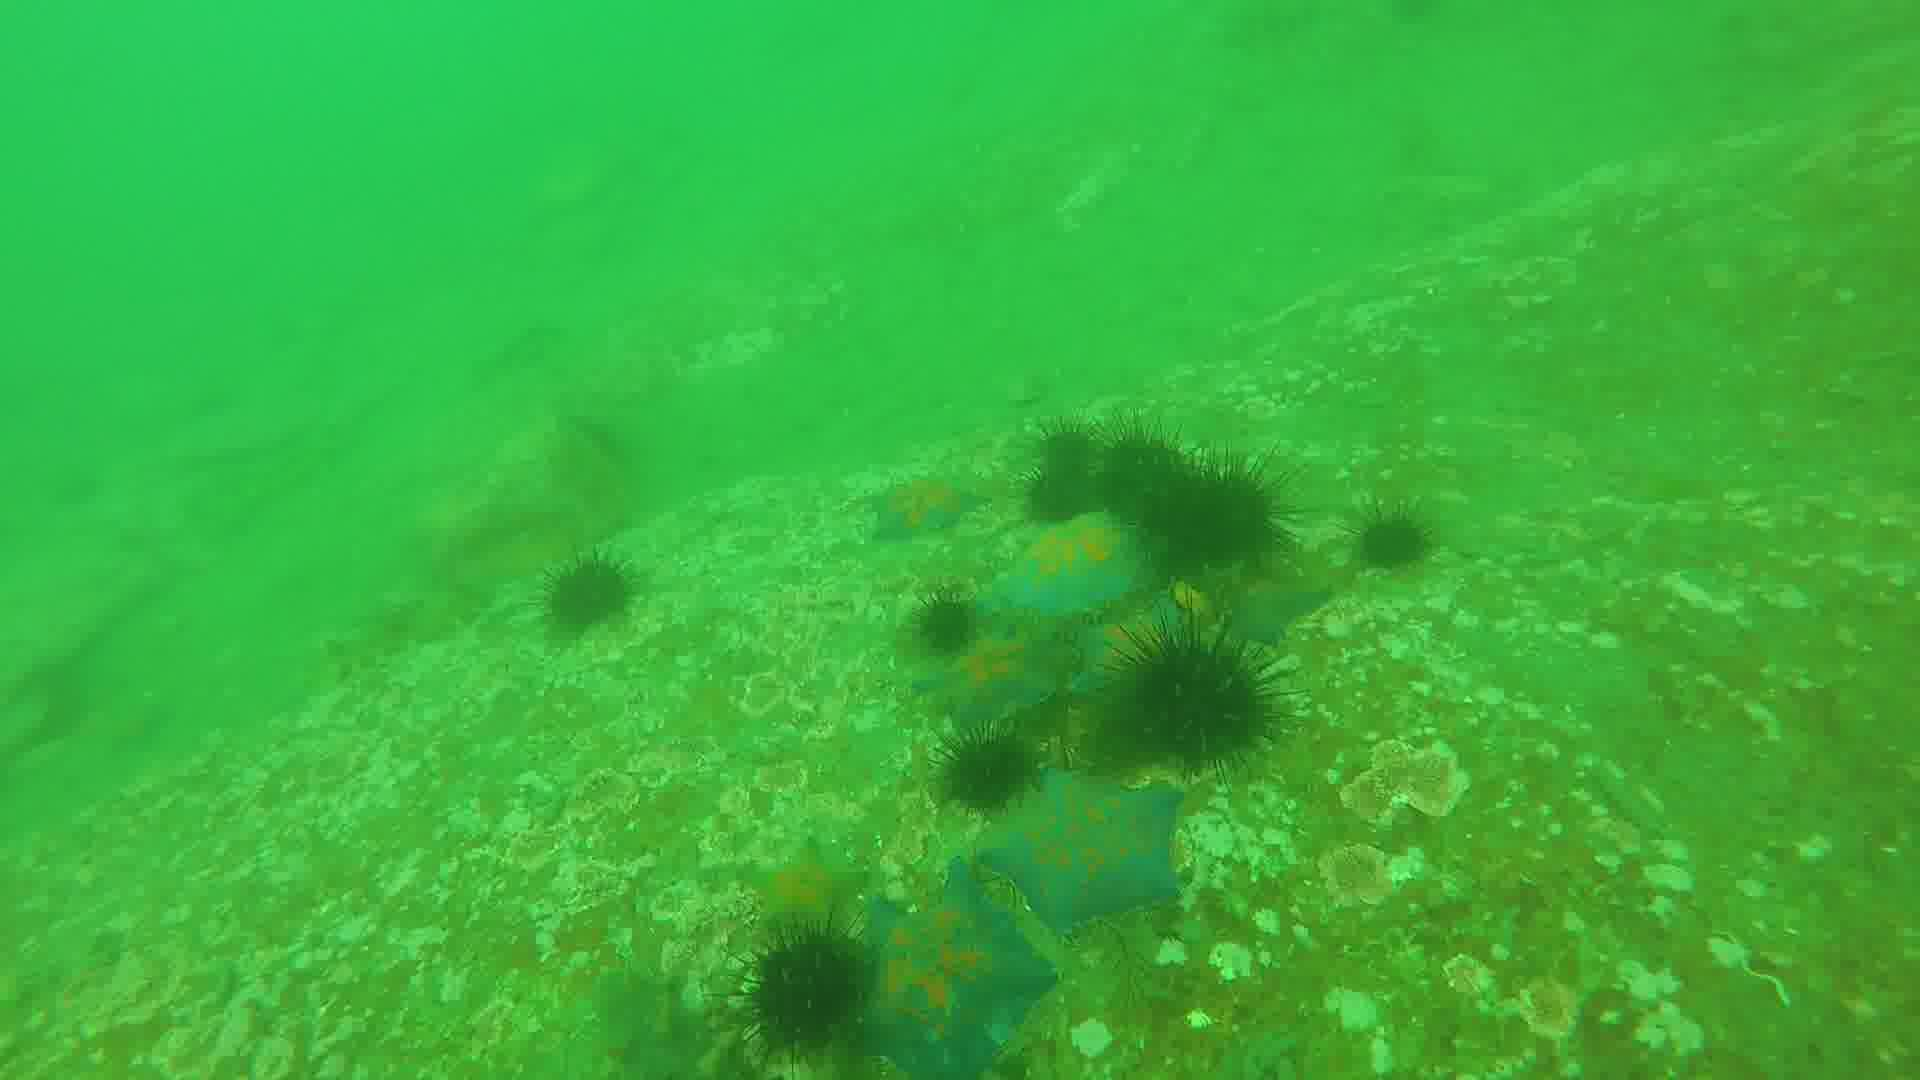echinus: (1110, 634, 1292, 775), (749, 916, 880, 1062), (1156, 465, 1276, 578), (1095, 431, 1211, 520), (907, 582, 1000, 659), (942, 742, 1044, 808), (546, 567, 644, 625), (1019, 467, 1104, 527), (1035, 419, 1116, 483), (1354, 513, 1443, 566)
starfish: (864, 862, 1052, 1077), (980, 775, 1189, 909), (993, 517, 1172, 636), (1065, 597, 1216, 711), (927, 632, 1069, 738), (737, 851, 876, 936), (860, 473, 996, 546), (1203, 584, 1337, 651)
